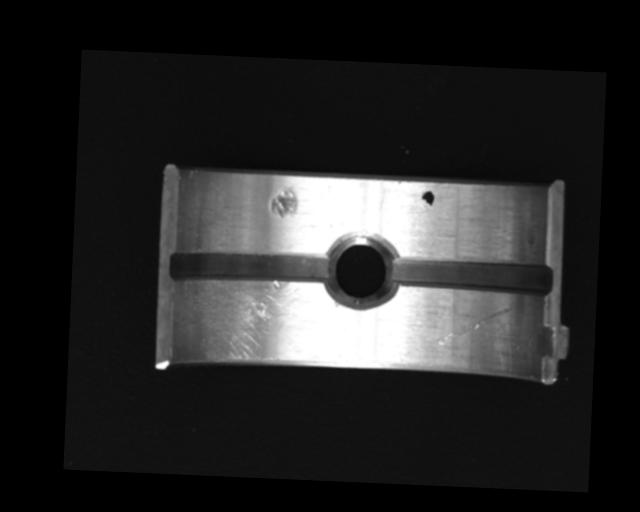blot: (419, 189, 434, 211)
bruise: (269, 183, 298, 220)
gap: (167, 247, 334, 289), (393, 256, 553, 295)
hole: (326, 230, 399, 309)
nick: (436, 303, 514, 350)
scratch: (179, 275, 329, 366)
